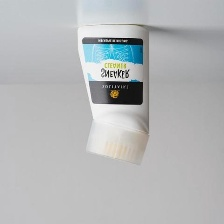cleaning_solution: (72, 22, 153, 174)
